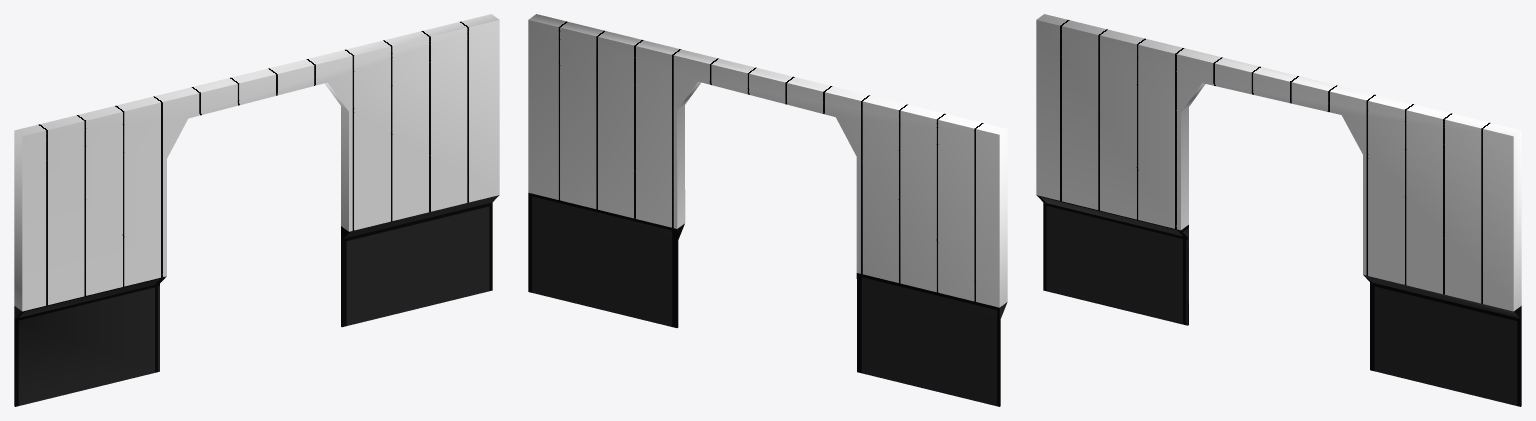
The model's file is InteriorDoor_Art.fbx.
The picture shows the model from 3 angles, left to right: view 1: azimuth 30°, elevation 25°; view 2: azimuth 150°, elevation 25°; view 3: azimuth 330°, elevation 25°; orthographic projection.
Visible parts, largest first — view 1: InteriorDoor_Art; view 2: InteriorDoor_Art; view 3: InteriorDoor_Art.
Part boxes in pixels (x1=…): InteriorDoor_Art: x1=14, y1=14, x2=499, y2=406; InteriorDoor_Art: x1=528, y1=14, x2=1007, y2=406; InteriorDoor_Art: x1=1036, y1=14, x2=1521, y2=406.
Bounding box in the file's own units: 10.79 × 5.95 × 0.3168.
